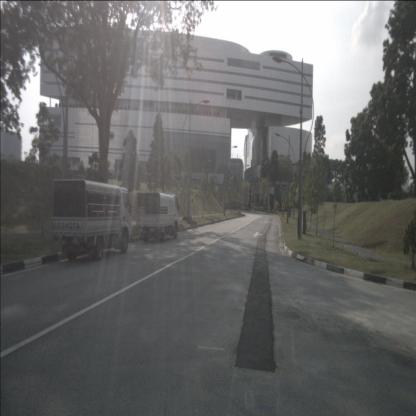vehicle-truck: (51, 178, 133, 261), (136, 192, 180, 242)
